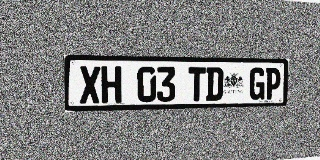0: (137, 66, 156, 102)
3: (157, 67, 175, 102)
D: (206, 67, 223, 101)
G: (249, 68, 266, 100)
H: (101, 66, 121, 103)
P: (265, 68, 281, 100)
T: (188, 67, 206, 101)
X: (79, 66, 101, 104)
